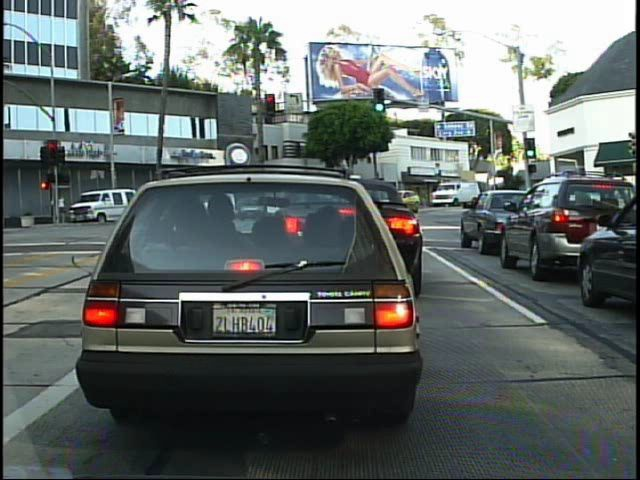person: (56, 190, 69, 226)
